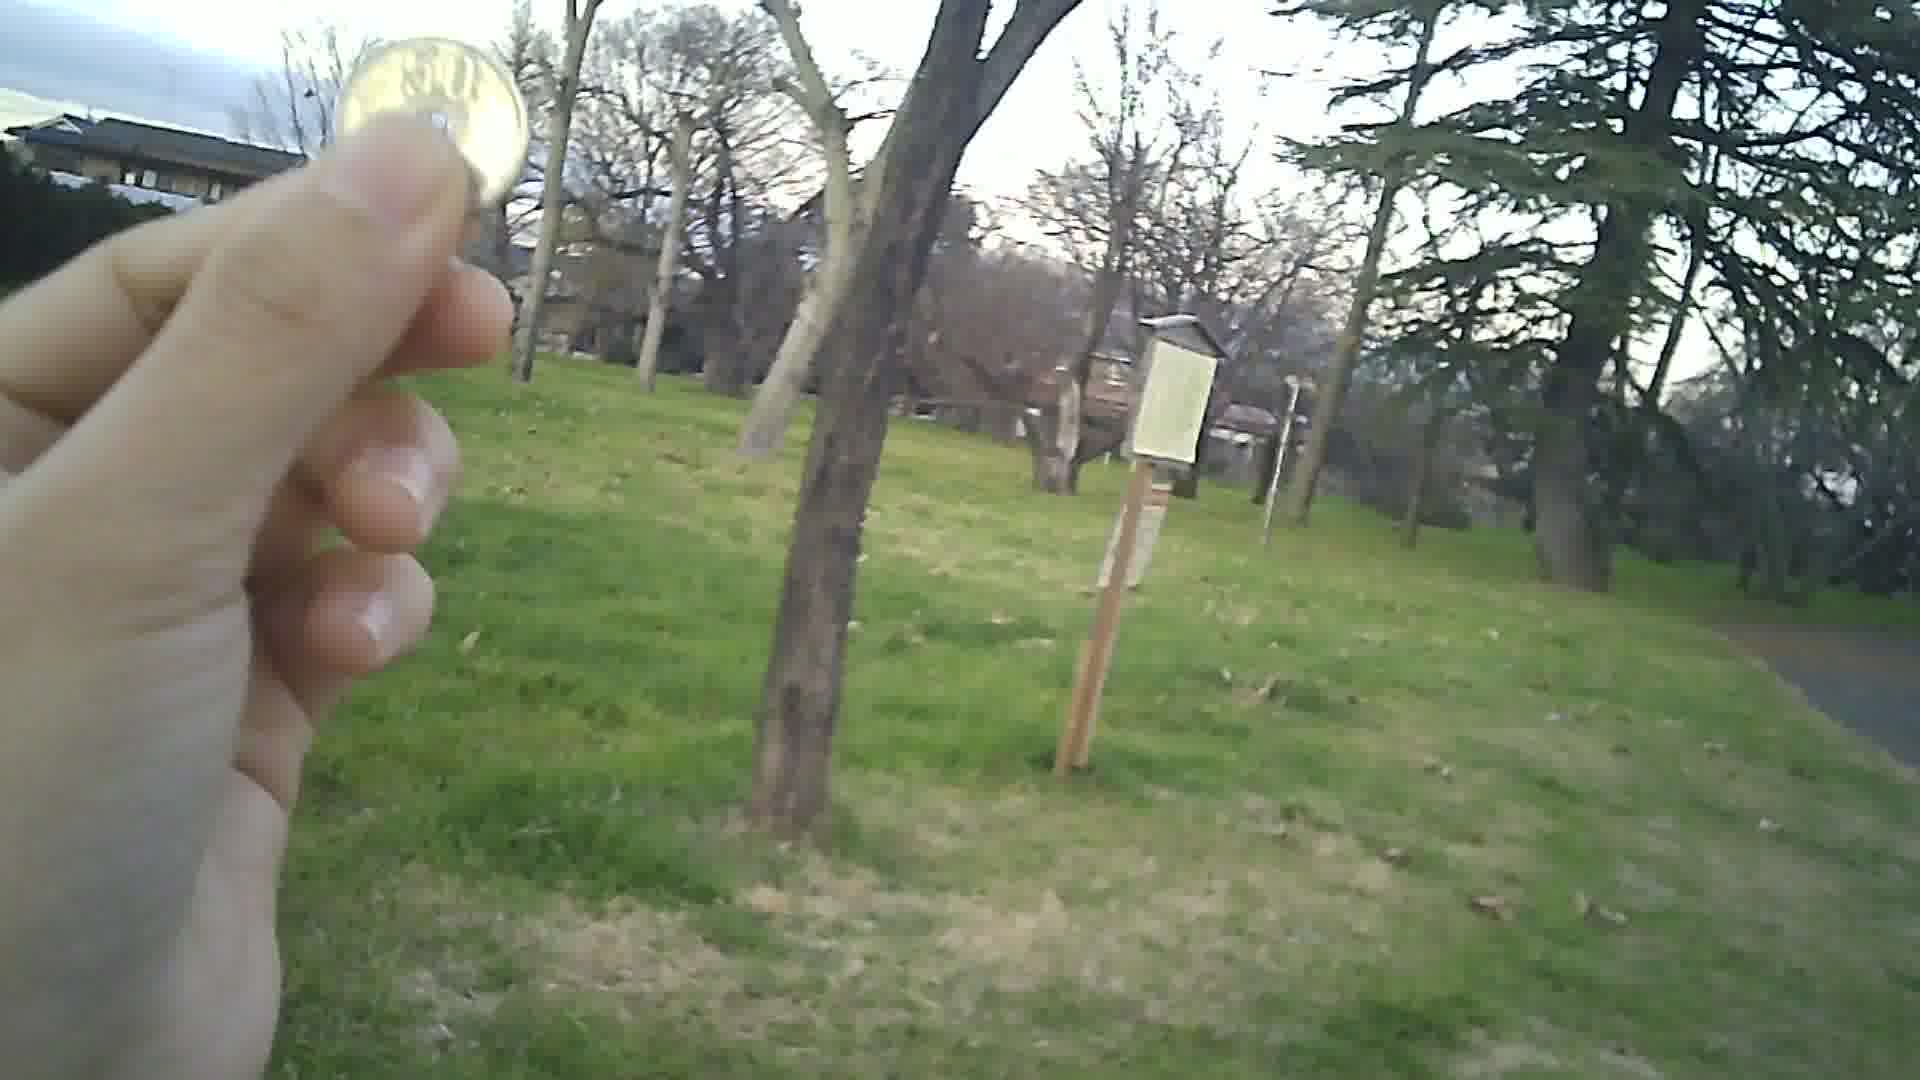50 Yen: (324, 30, 537, 239)
